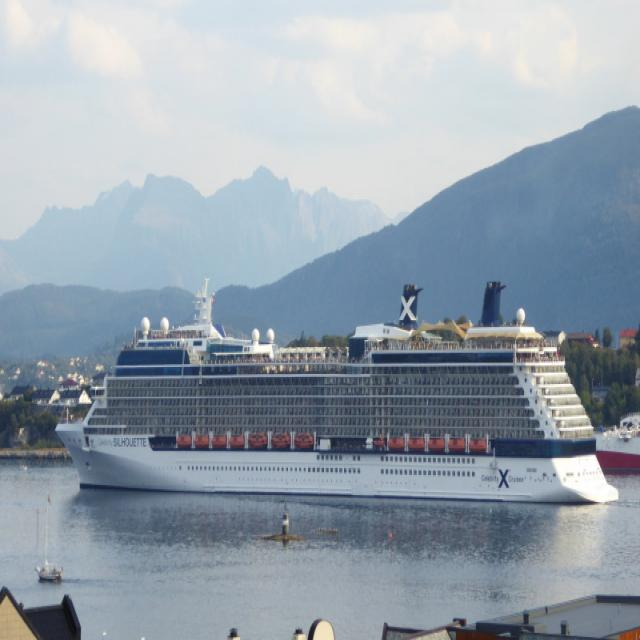cruises: (51, 274, 621, 513)
